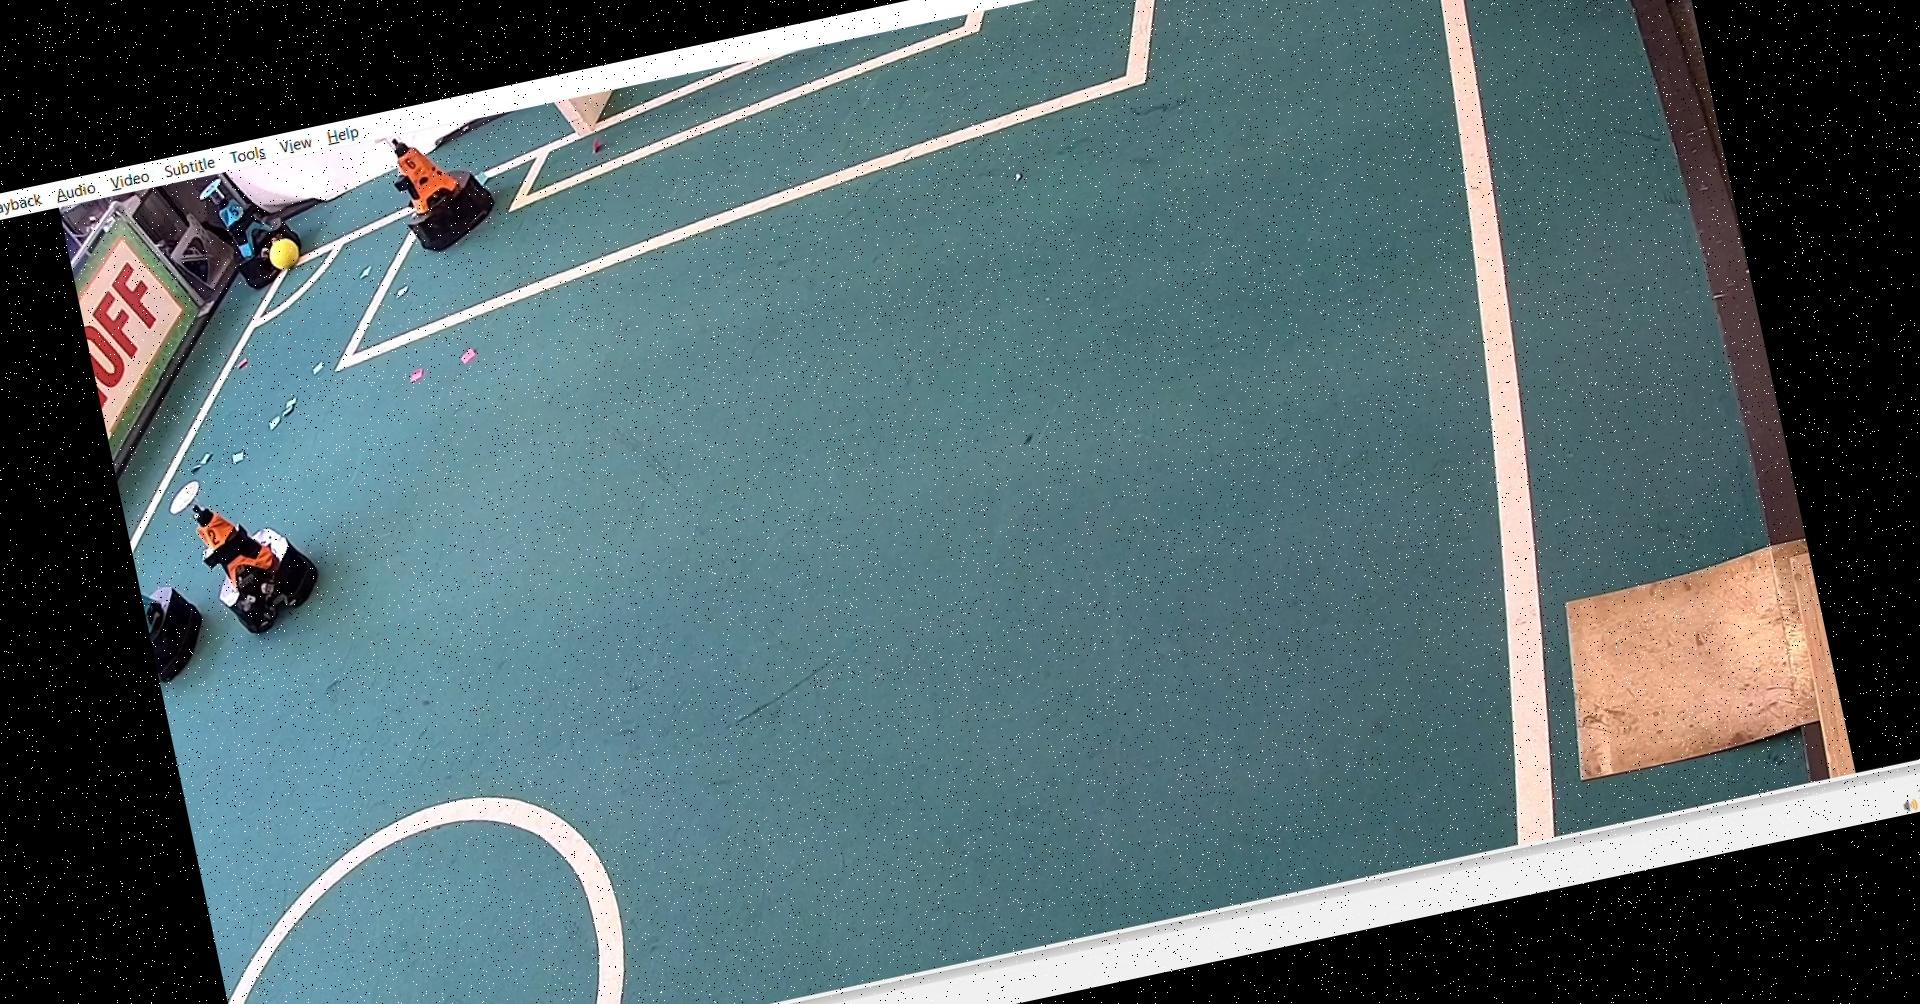Ball: (262, 228, 305, 272)
Team_Blue: (194, 162, 315, 289)
Team_Red: (171, 456, 330, 645), (381, 119, 510, 261)
